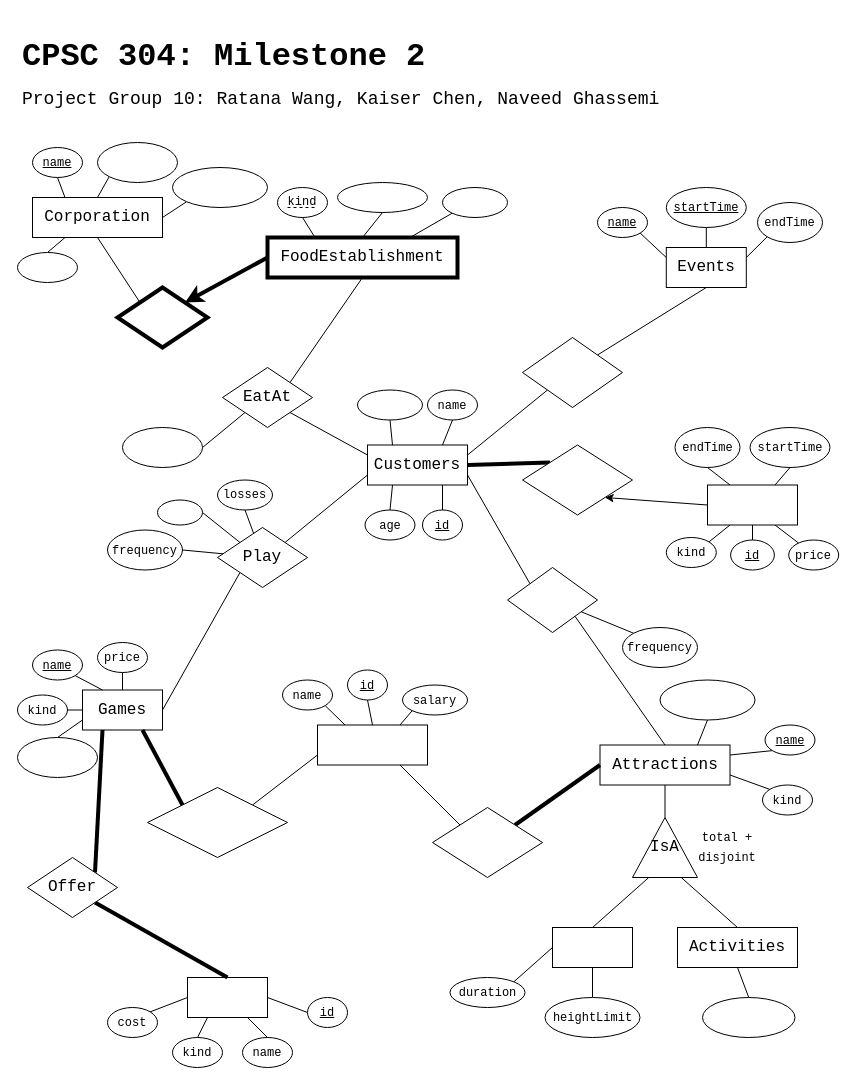
Some shapes in this 857 by 1085 pixel diagram are drawn without their labels. Each missing label, with the centre of its shape:
Attend: the point at 572,372
avgDuration: the point at 748,1017
bestseller: the point at 382,197
difficulty: the point at 57,757
Employees: the point at 372,744
From: the point at 162,317
height: the point at 389,404
hqAddress: the point at 137,162
hqCity: the point at 47,267
hqPostalCode: the point at 220,187
Operate: the point at 487,842
Passes: the point at 752,504
Prizes: the point at 227,997
Purchase: the point at 577,479
rating: the point at 475,202
Rides: the point at 592,947
spendings: the point at 162,447
Supervise: the point at 217,822
Visit: the point at 552,599
waitingTime: the point at 707,699
wins: the point at 179,512
